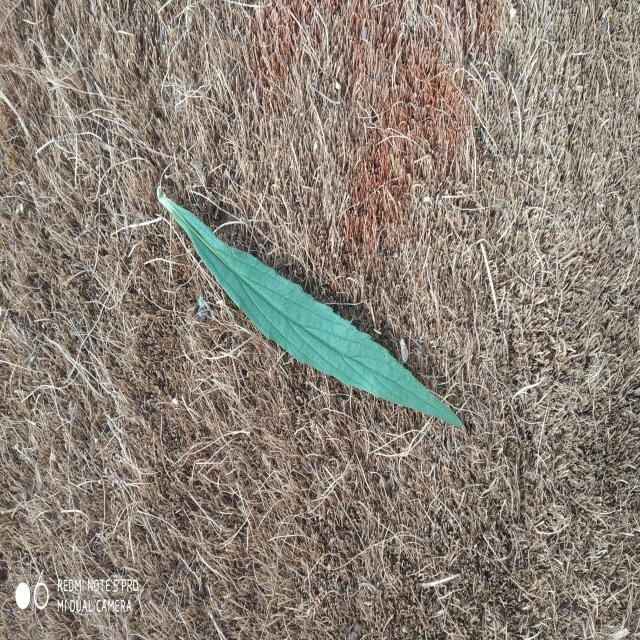thambe: (156, 184, 462, 429)
